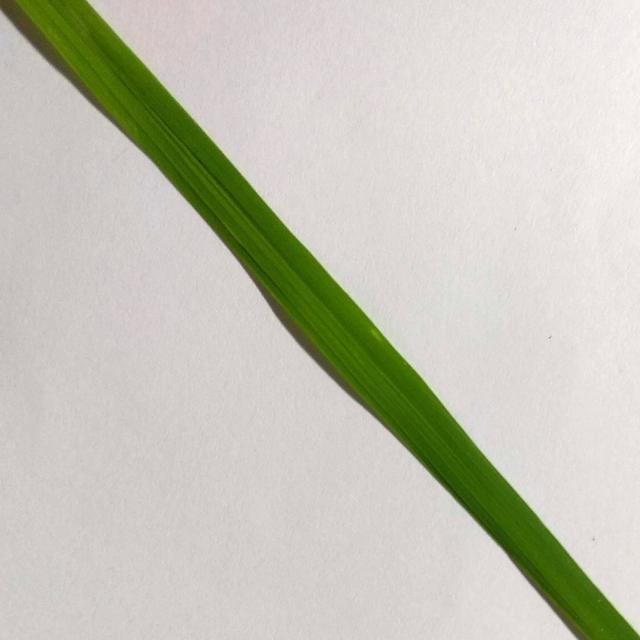Rice_Healthy: (14, 0, 640, 640)
